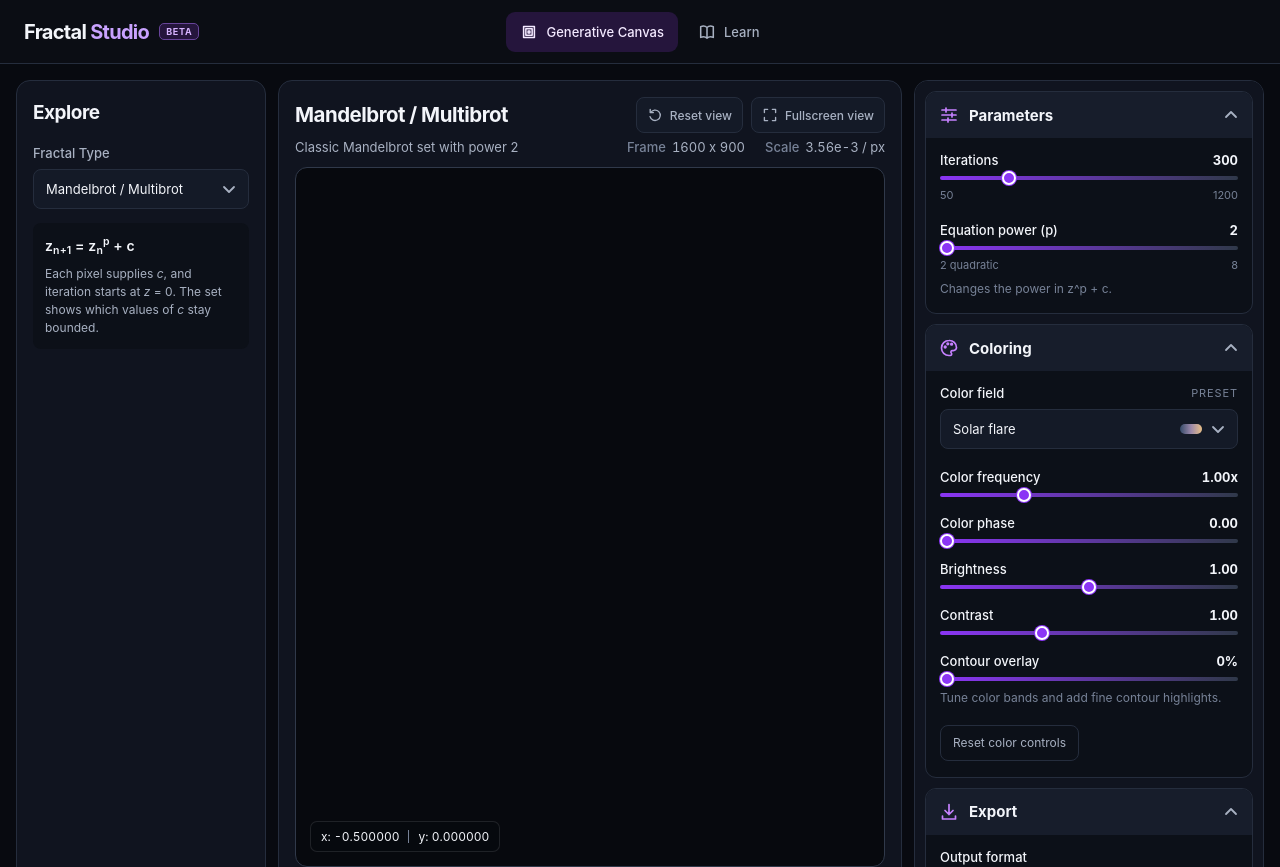
Scenario: Fractal Studio UI › collapses and reopens the Parameters and Coloring panels
Click the button "Parameters" at (1011, 115), box [926,92,1252,138]
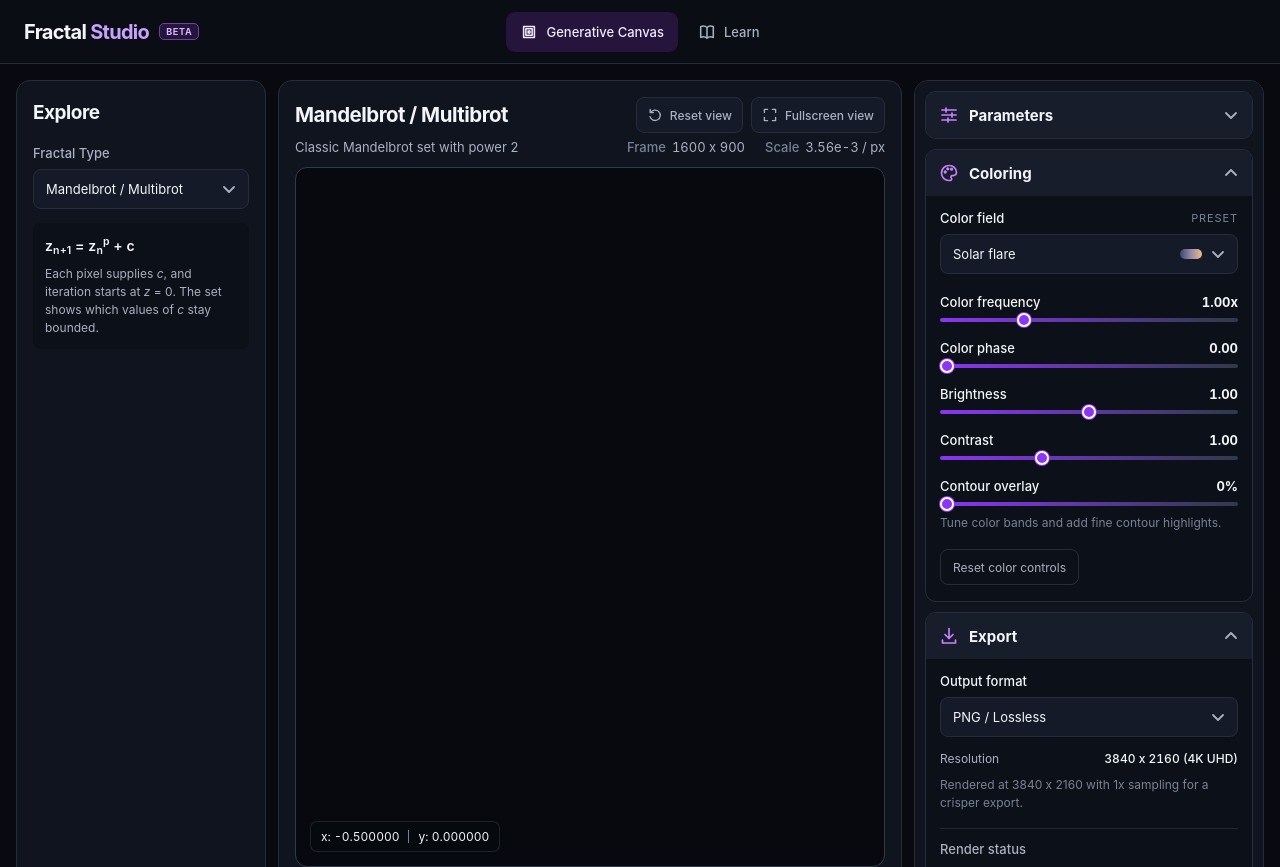
Result: the button "Parameters" is collapsed
Click the button "Parameters" at (1011, 115), box [926,92,1252,138]
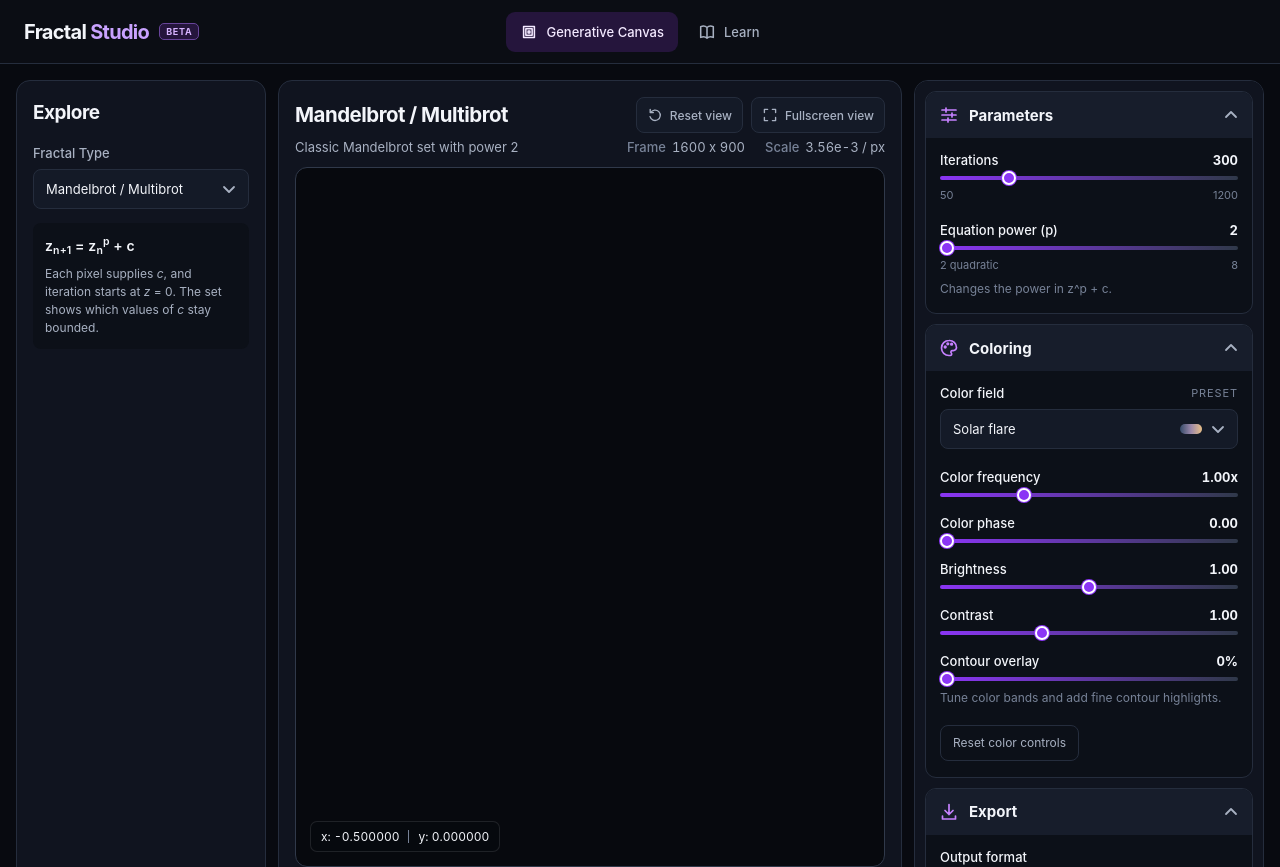
Result: the slider labelled "Iterations" is shown at [940,176,1238,180]
Click the button "Coloring" at (1000, 348), box [926,325,1252,371]
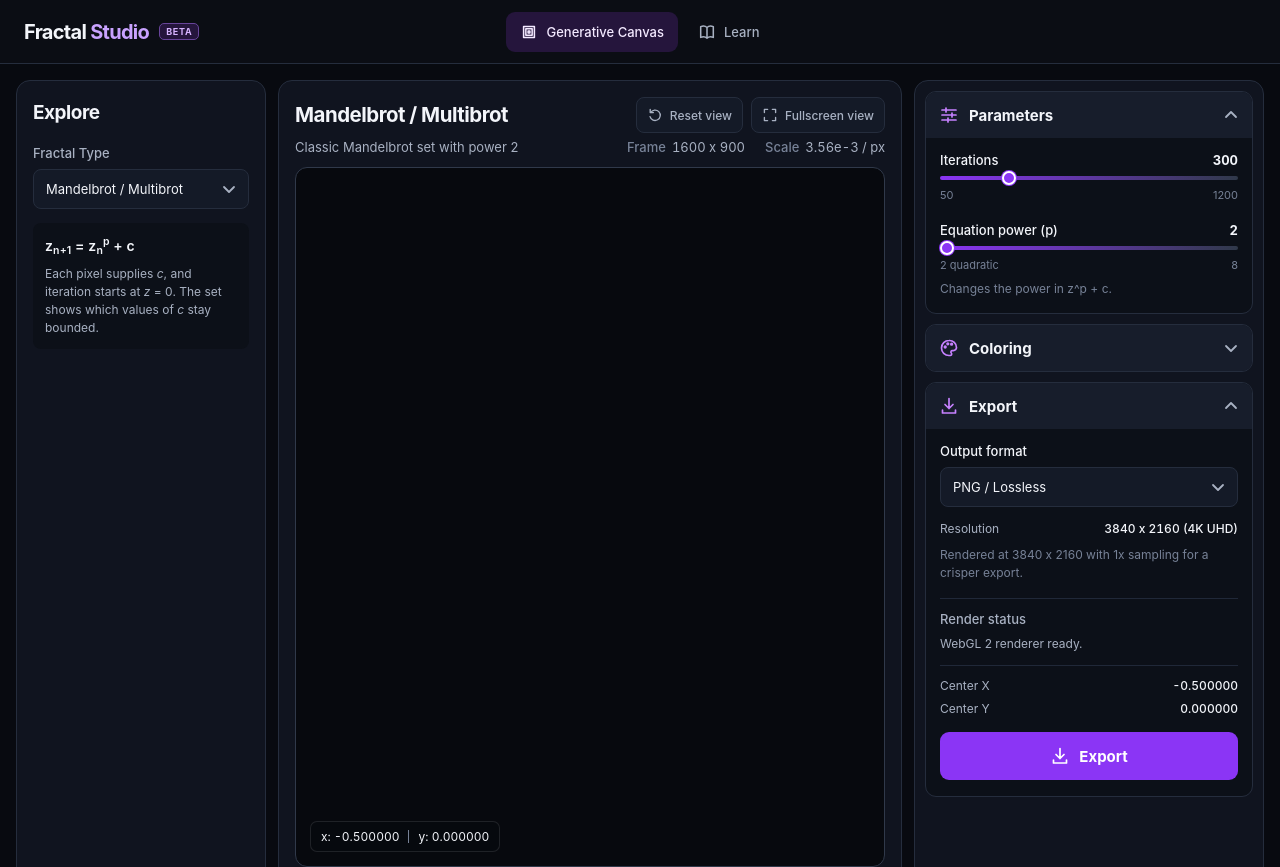
Click the button "Coloring" at (1000, 348), box [926,325,1252,371]
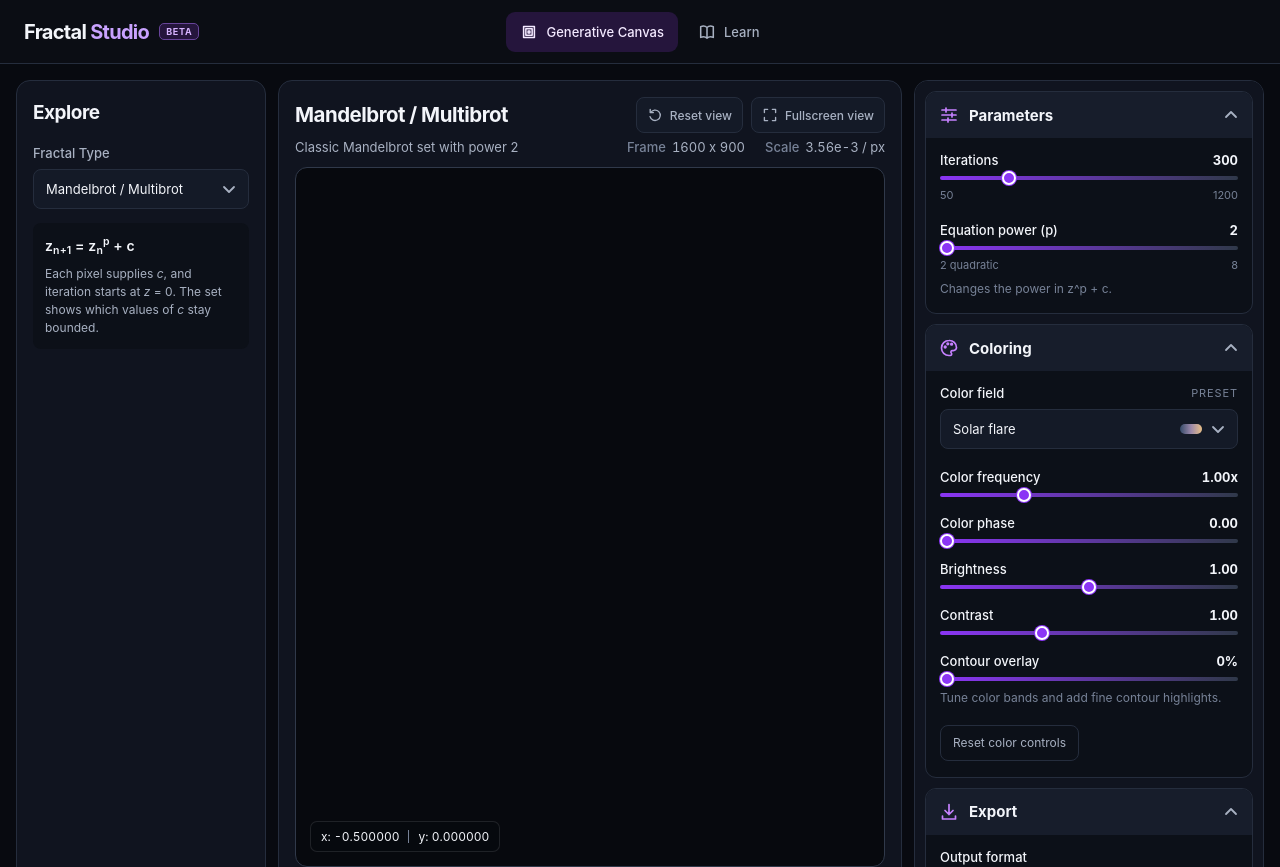
Result: the dropdown labelled "Color field" is shown at [940,409,1238,449]
